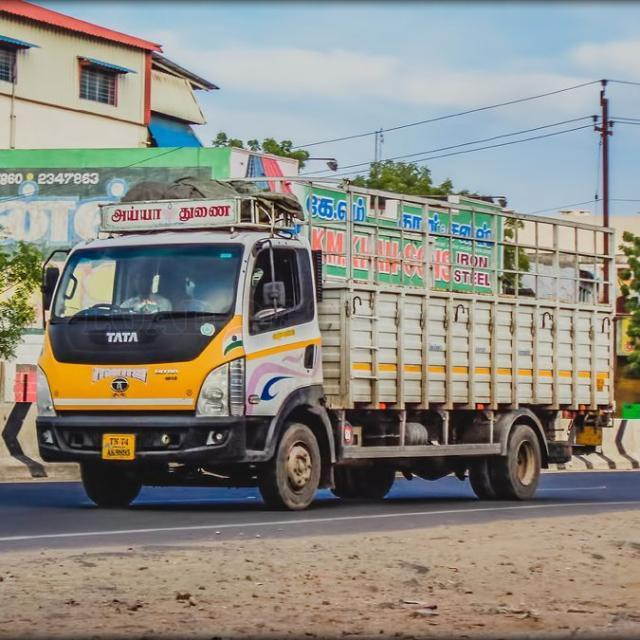Truck: (29, 174, 618, 512)
